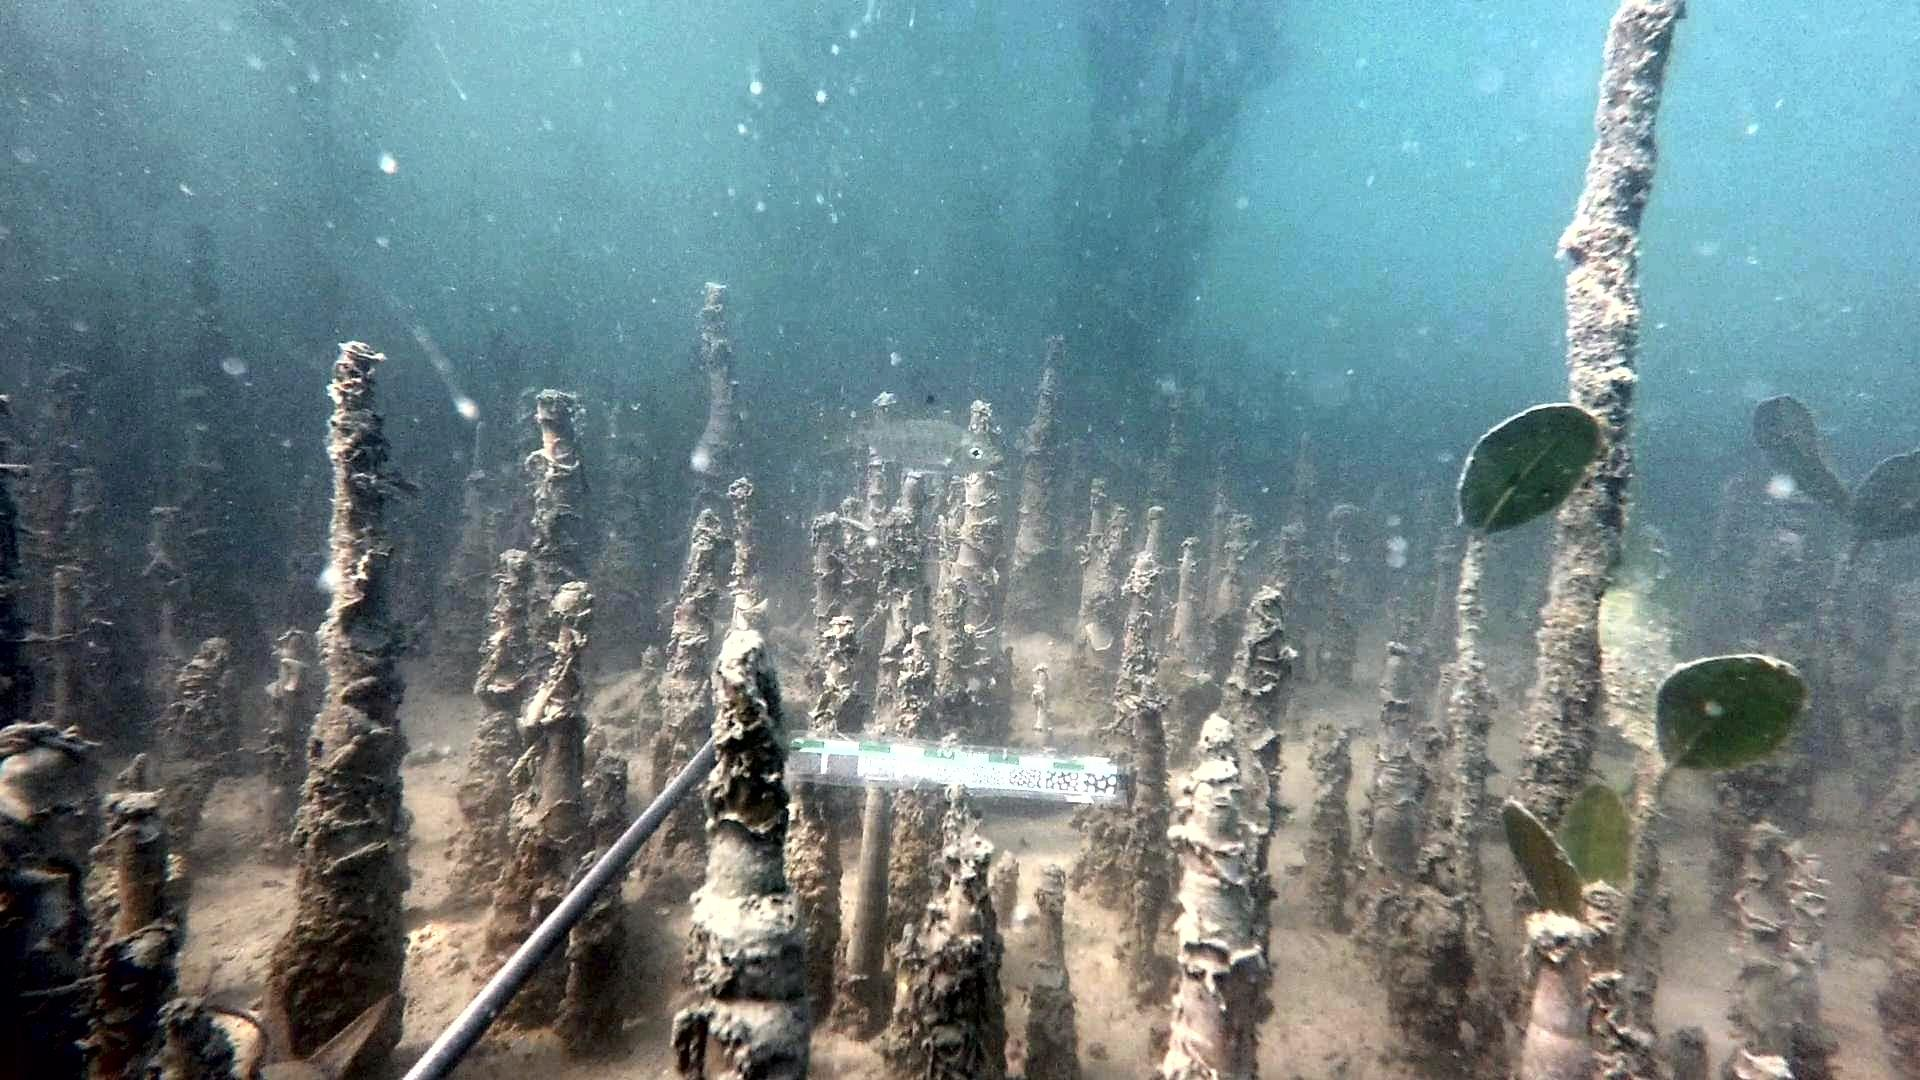gerres: (827, 392, 1005, 477)
